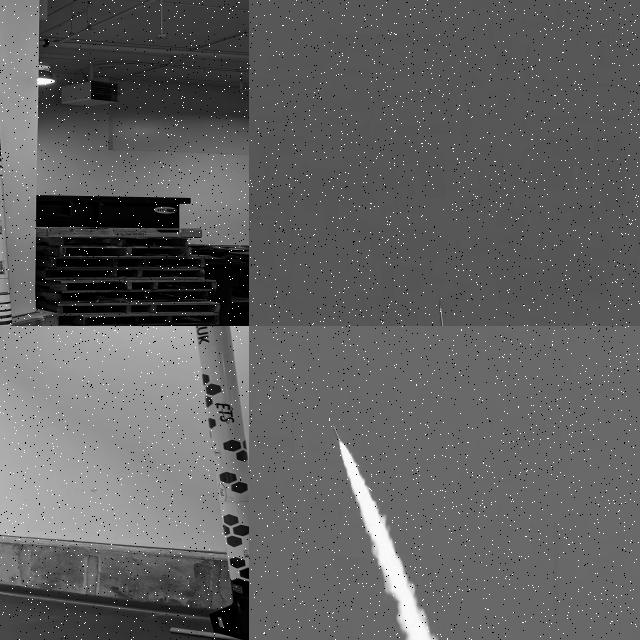Rocket: (195, 326, 249, 640), (439, 303, 452, 326), (332, 418, 343, 444)
